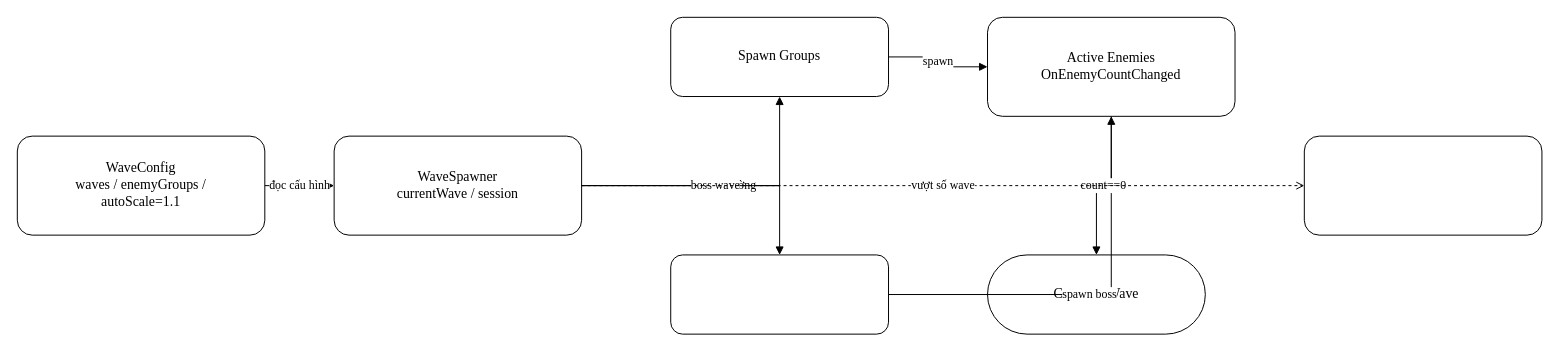
The diagram is 1559 pixels wide and 351 high, and some of its shapes have lost their labels. The box of each missing label's shape, as (x1, y1, x2, y2) in pixels:
Boss Wave bossPoolTypes: (670, 254, 889, 334)
Endless Wave re-use base wave: (1303, 135, 1542, 235)
